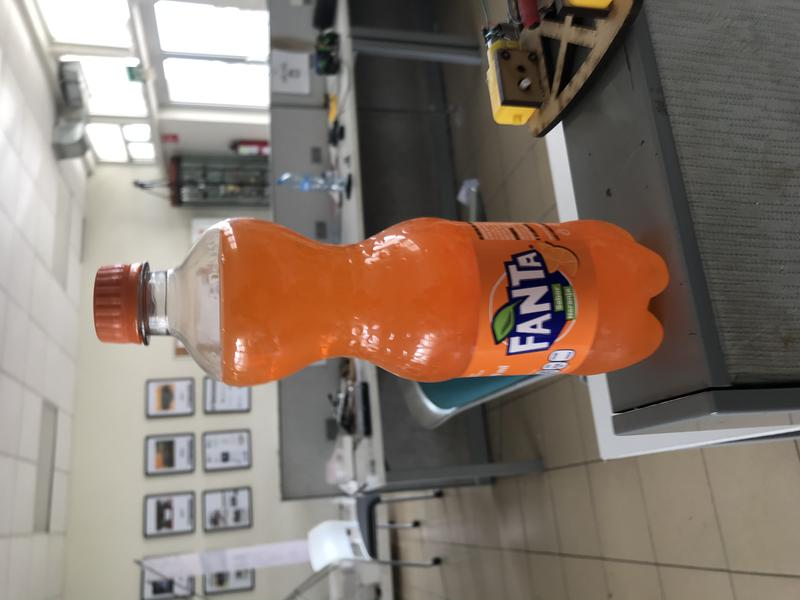fanta: (95, 216, 670, 390)
